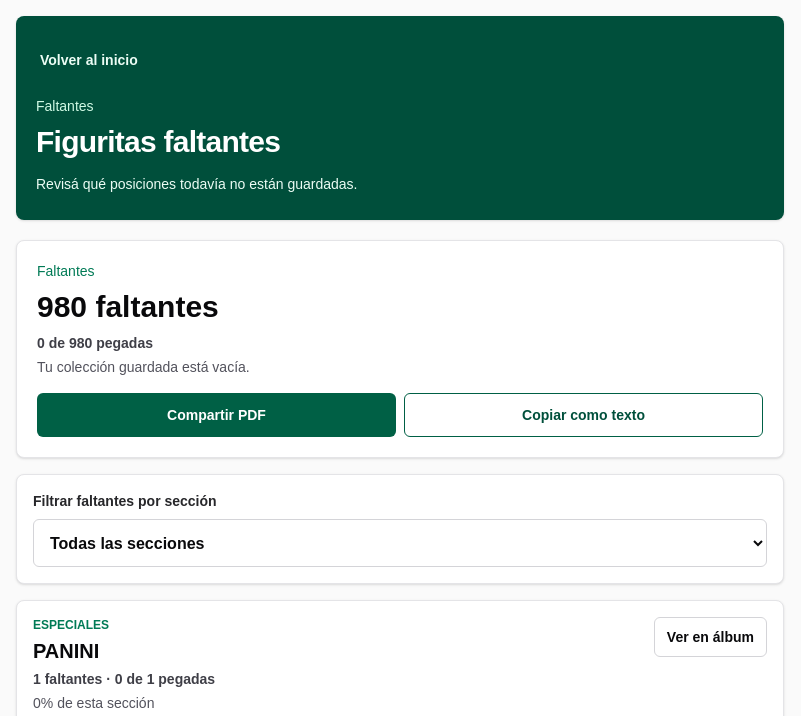
Scenario: CollectionViews missing › shows manual copy text when automatic fallback cannot copy
Expected: the heading "980 faltantes" is shown, [37,290,219,323]
Click the button "Copiar como texto": x=584, y=415 [404,393,763,437]
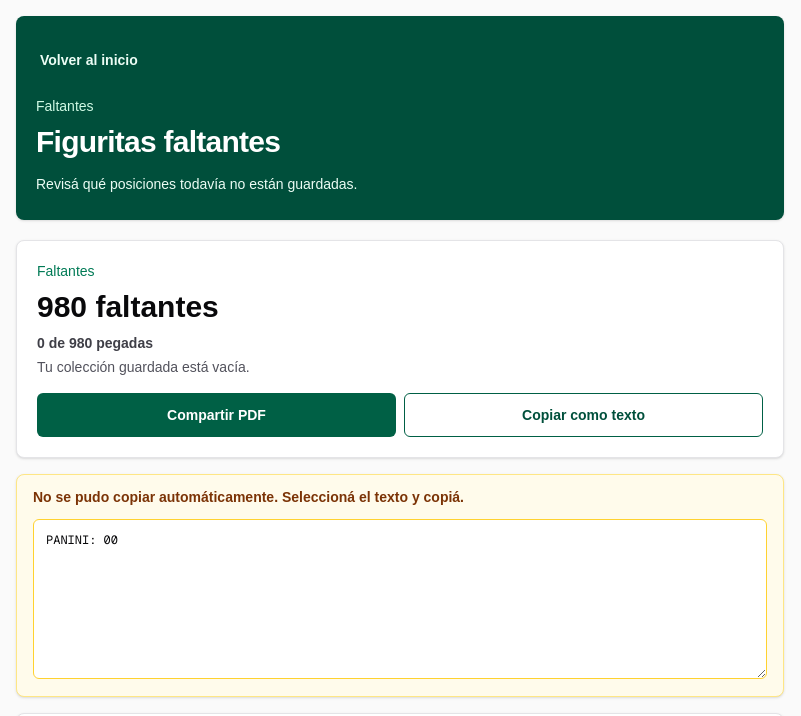
Expected: the text "No se pudo copiar automáticamente. Seleccioná el texto y copiá." is shown, [33,489,464,505]
Expected: the text box showing "PANINI: 00" is shown, [33,519,767,679]
